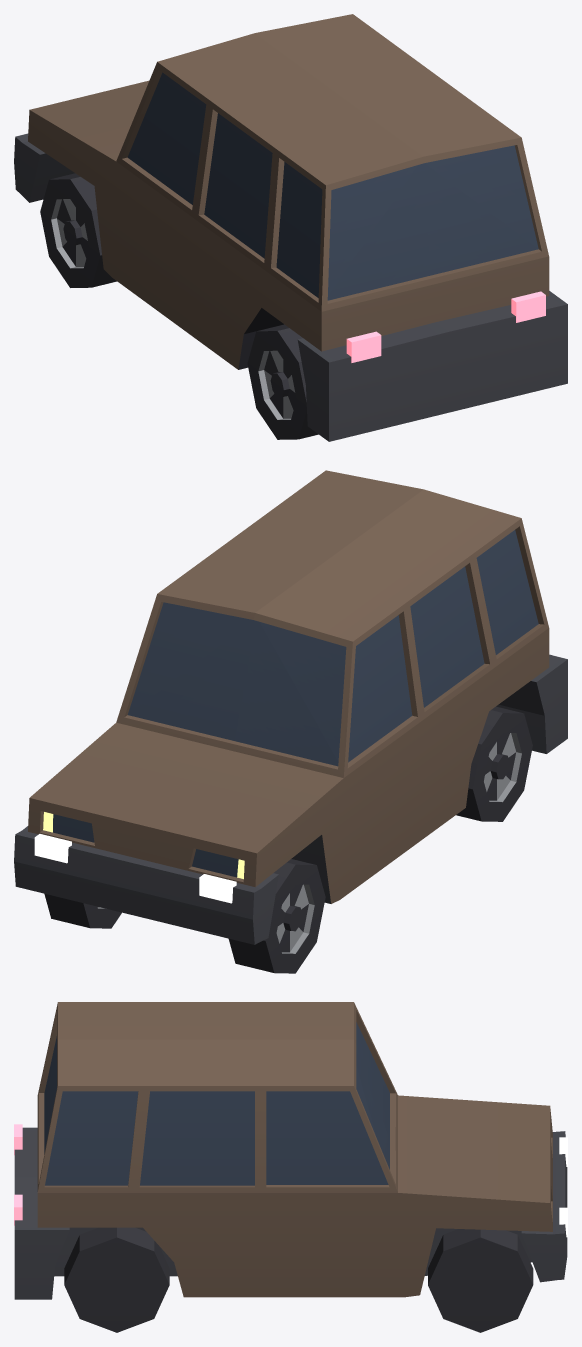
File: car_wagon_brown.glb
The picture shows the model from 3 angles, top to bottom: view 1: azimuth 30°, elevation 25°; view 2: azimuth 150°, elevation 25°; view 3: azimuth 270°, elevation 25°; orthographic projection. The views are drawn at different scales.
Parts seen in each view (by area): view 1: car_wagon_brown; view 2: car_wagon_brown; view 3: car_wagon_brown.
Boxes of the visible parts, x1=… form: car_wagon_brown: x1=14, y1=14, x2=567, y2=441; car_wagon_brown: x1=14, y1=470, x2=567, y2=973; car_wagon_brown: x1=14, y1=1002, x2=567, y2=1332.
Size of the model in its own units: 1.93 by 2.16 by 4.41.
